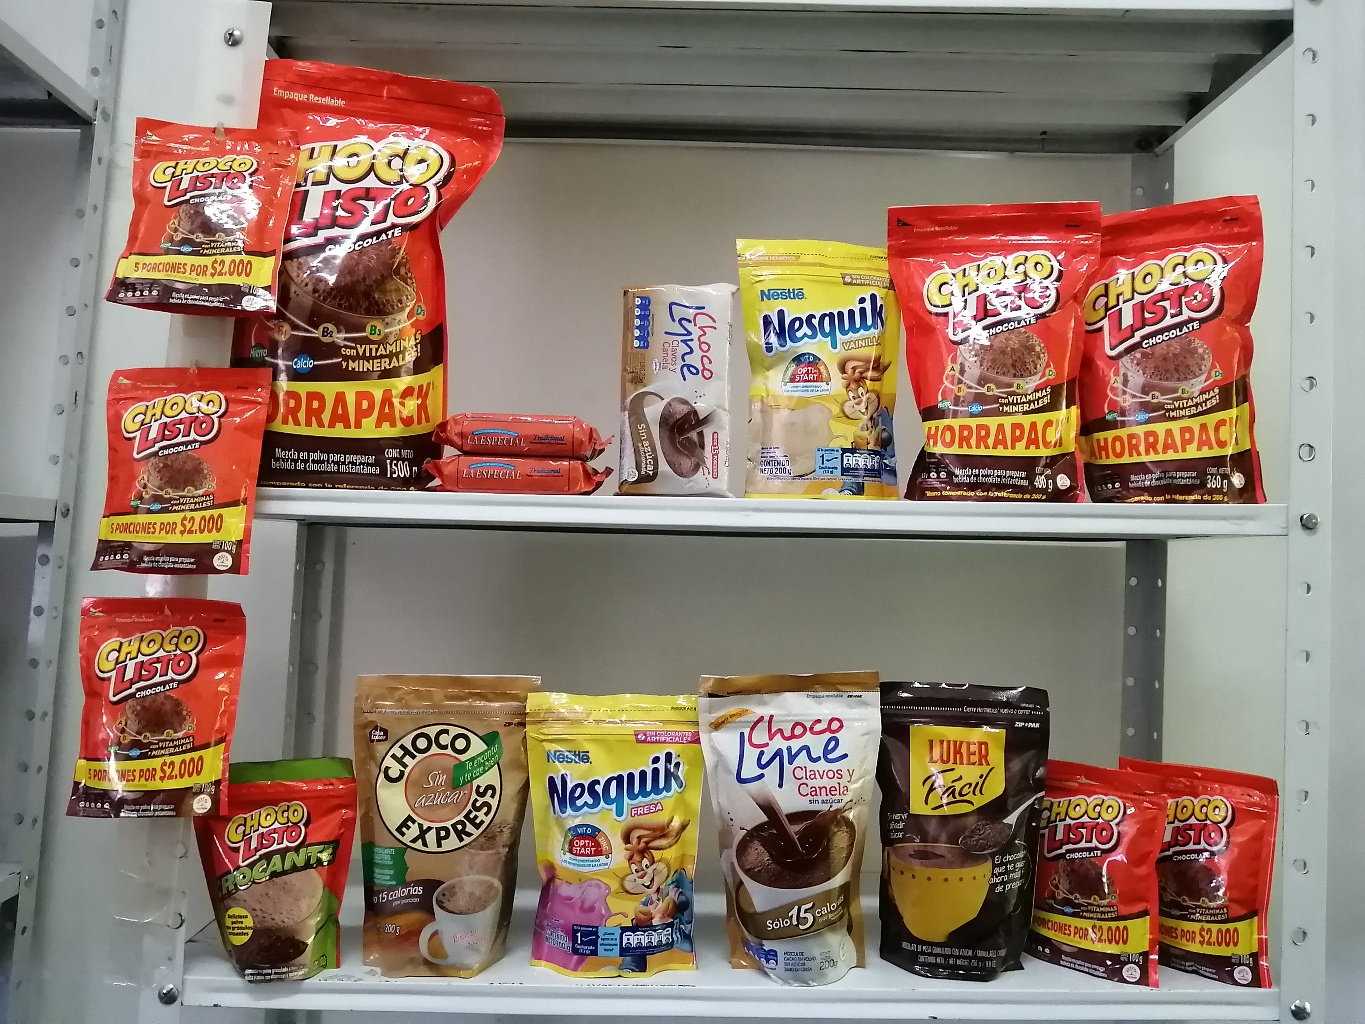COL0170102DYP10000: (191, 737, 351, 978)
COL0170103DYP1,500: (237, 53, 513, 492)
COL0170103DYP10000: (1123, 746, 1284, 990)
COL0170103DYP36000: (1075, 190, 1272, 506)
COL0170103DYP40000: (885, 199, 1084, 499)
COL0170305DYP20000: (522, 687, 703, 973)
COL0170306DYP20000: (728, 239, 899, 497)
